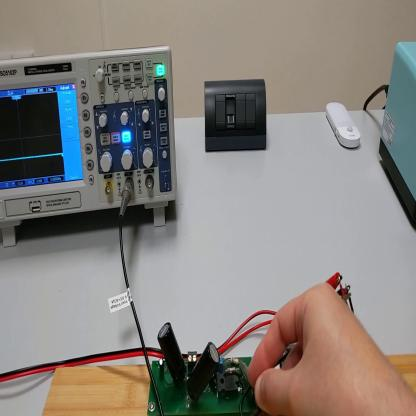hand: (250, 283, 405, 414)
high voltage board: (147, 276, 355, 416)
oscilloscope: (2, 46, 179, 247)
oscilloscope probe tip: (237, 354, 250, 382)
welder station: (379, 35, 416, 232)
working area: (44, 356, 416, 416)
